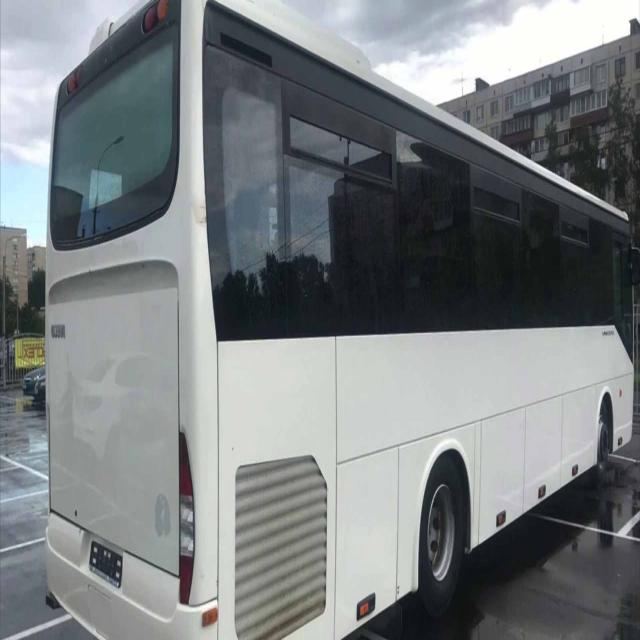bus: (39, 0, 637, 640)
